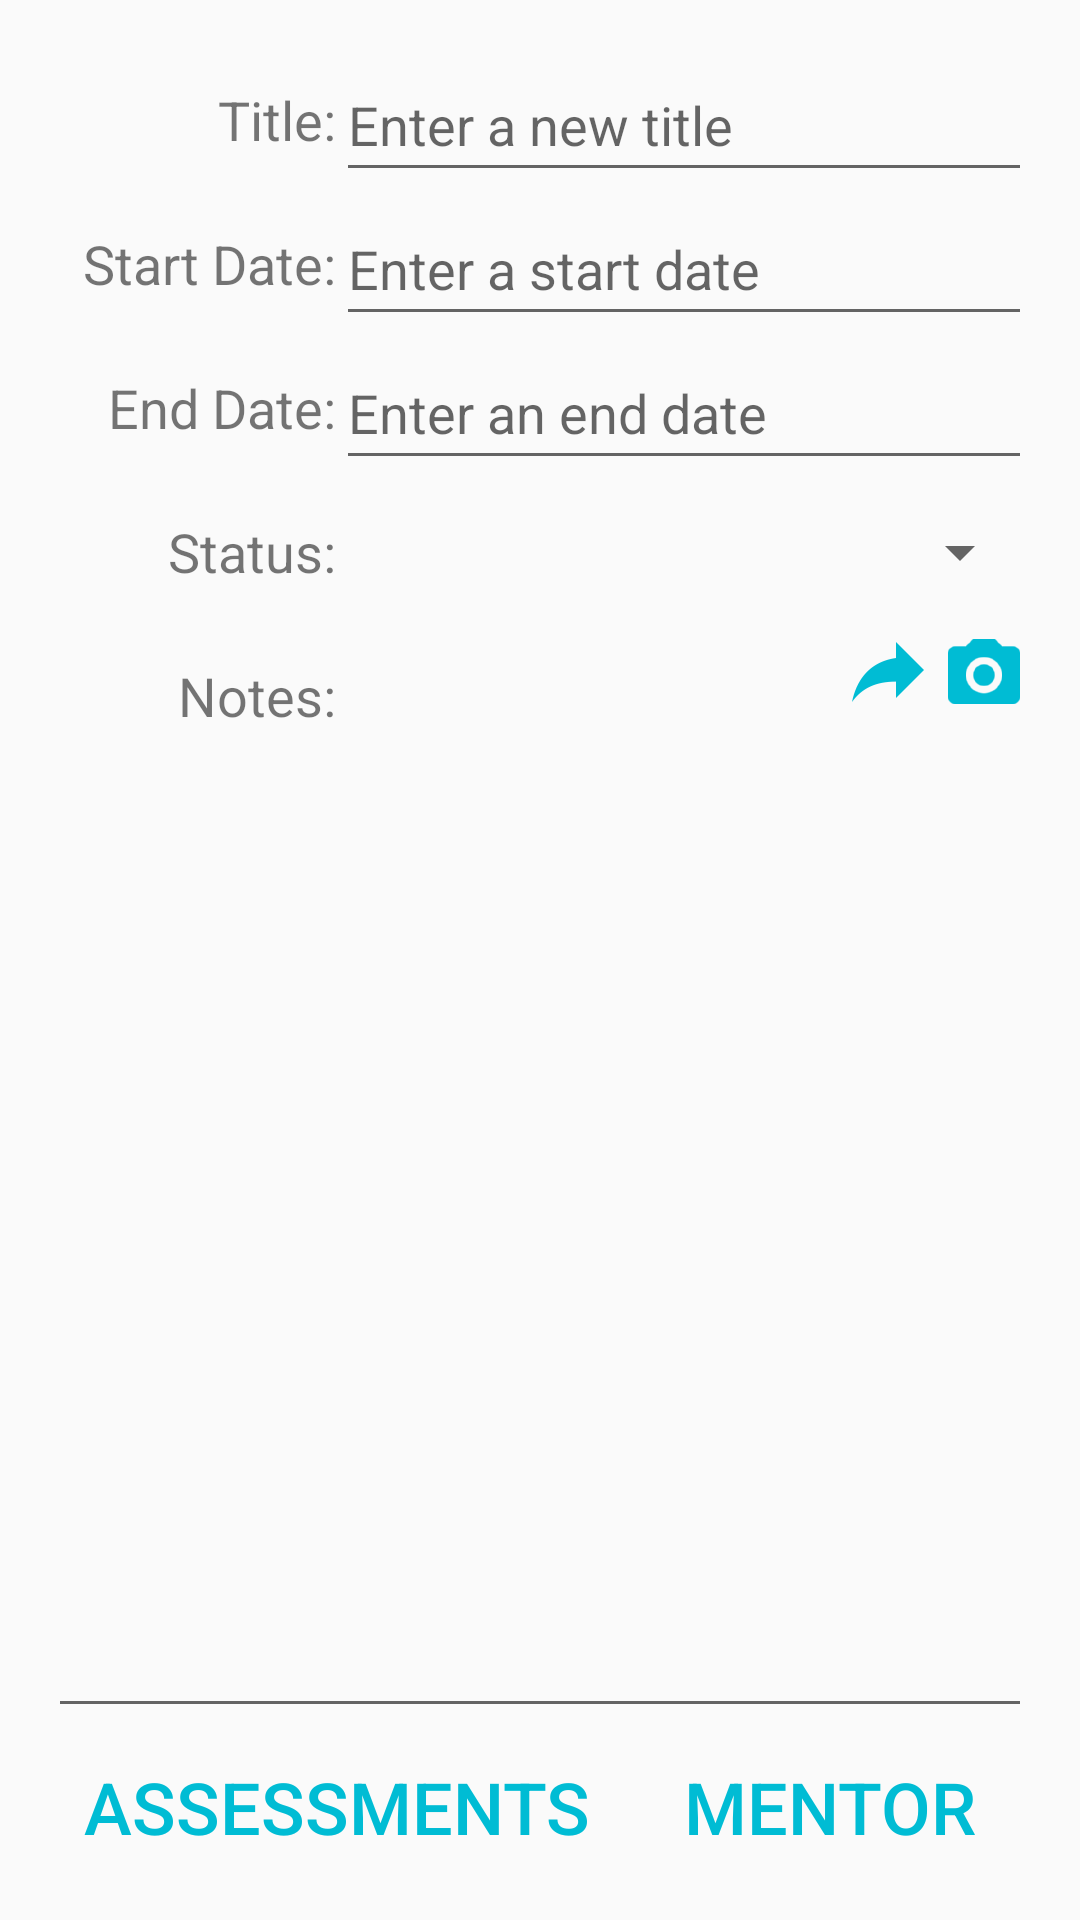

Named icons in this screenshot (1080 x 1920) and their centers, point (x, y):
Open the Camera: point (984, 671)
Share: point (888, 672)
